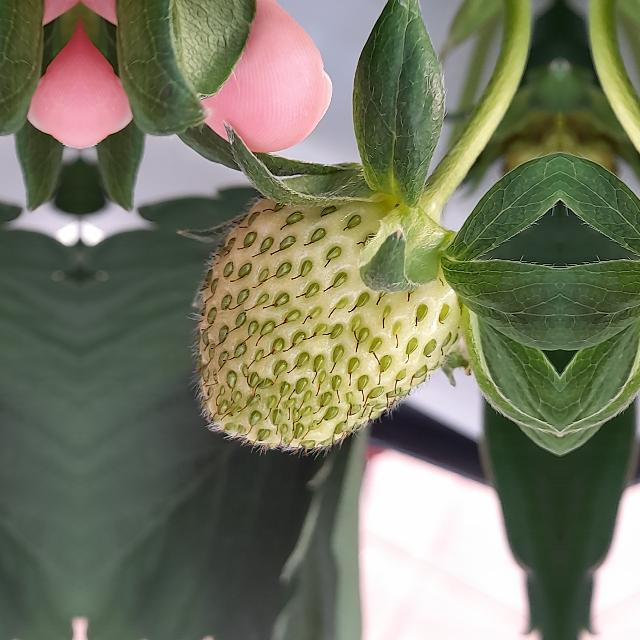Health_25: (185, 185, 463, 460)
